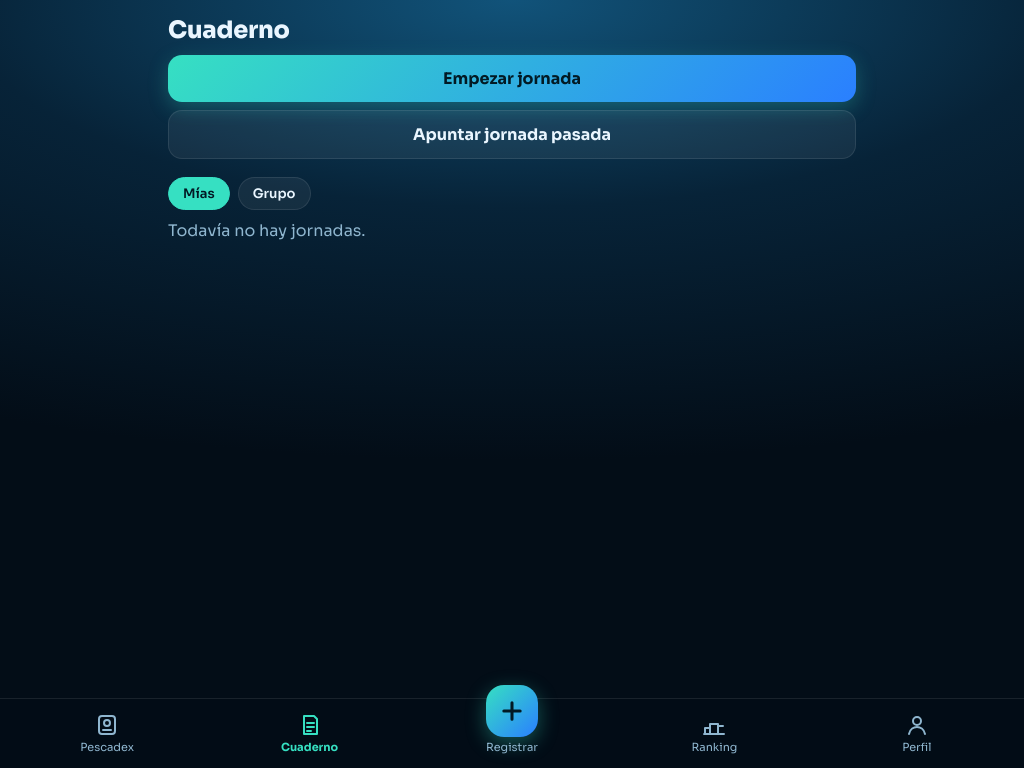
Test: empezar jornada de spinning con un compañero
Click the button "Empezar jornada" at (512, 78), box [168, 55, 856, 102]
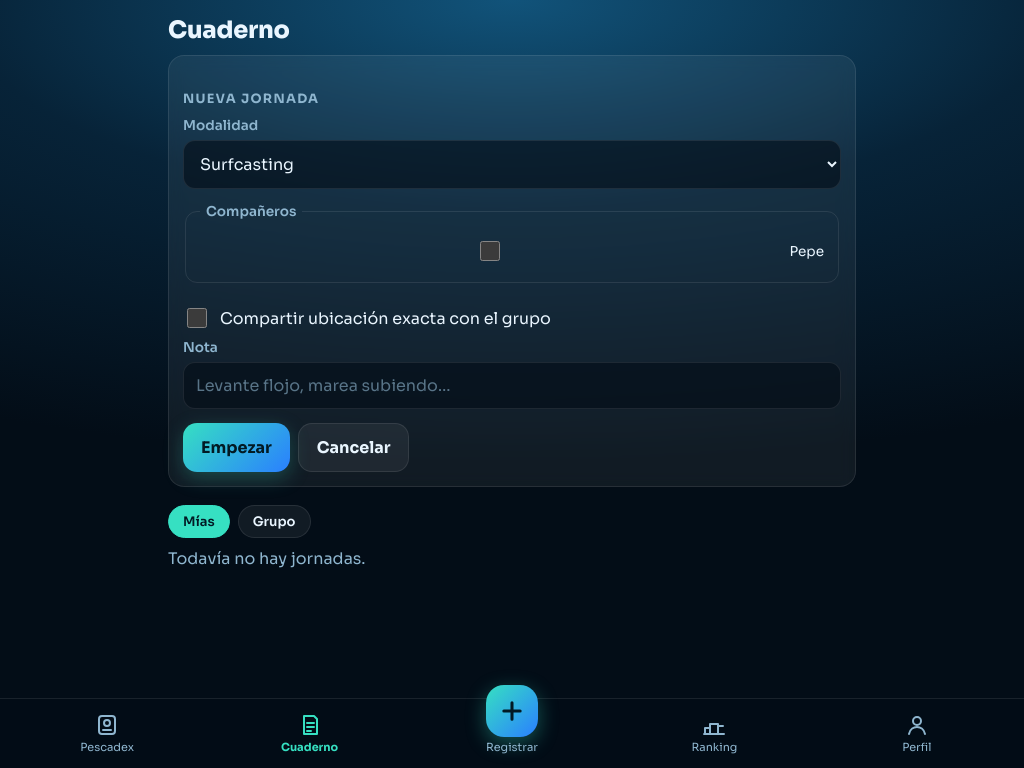
Select "Spinning" in the dropdown labelled "Modalidad" at (512, 165), box [183, 140, 841, 189]
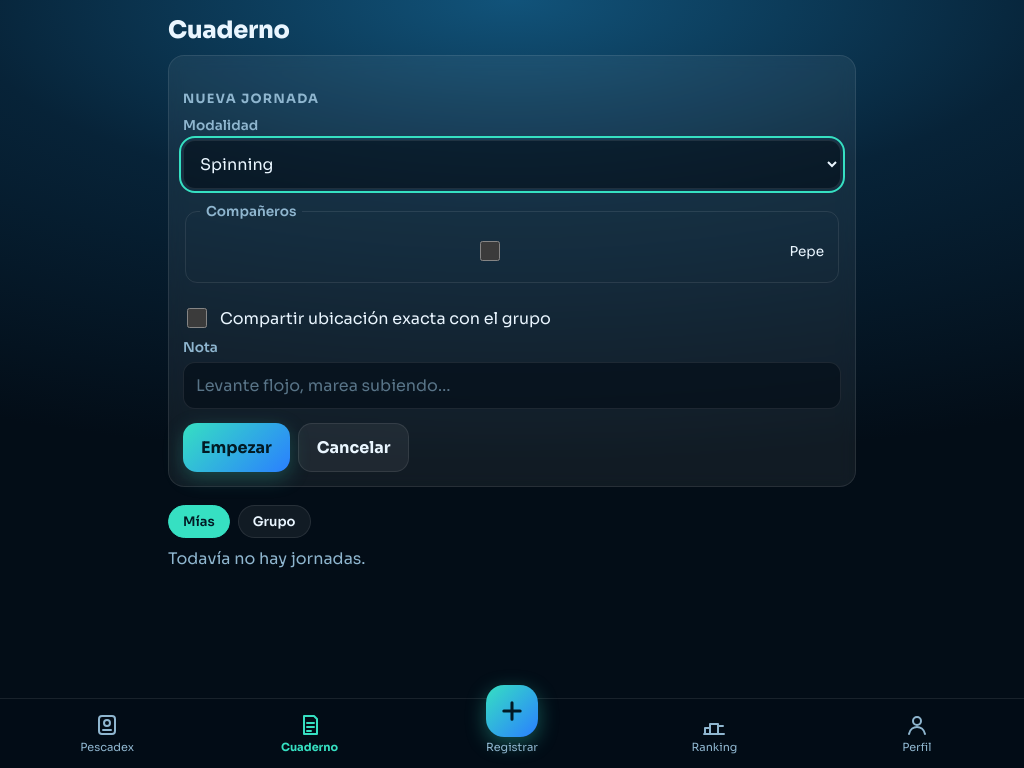
Click the checkbox labelled "Pepe" at (490, 251), box [204, 241, 776, 261]
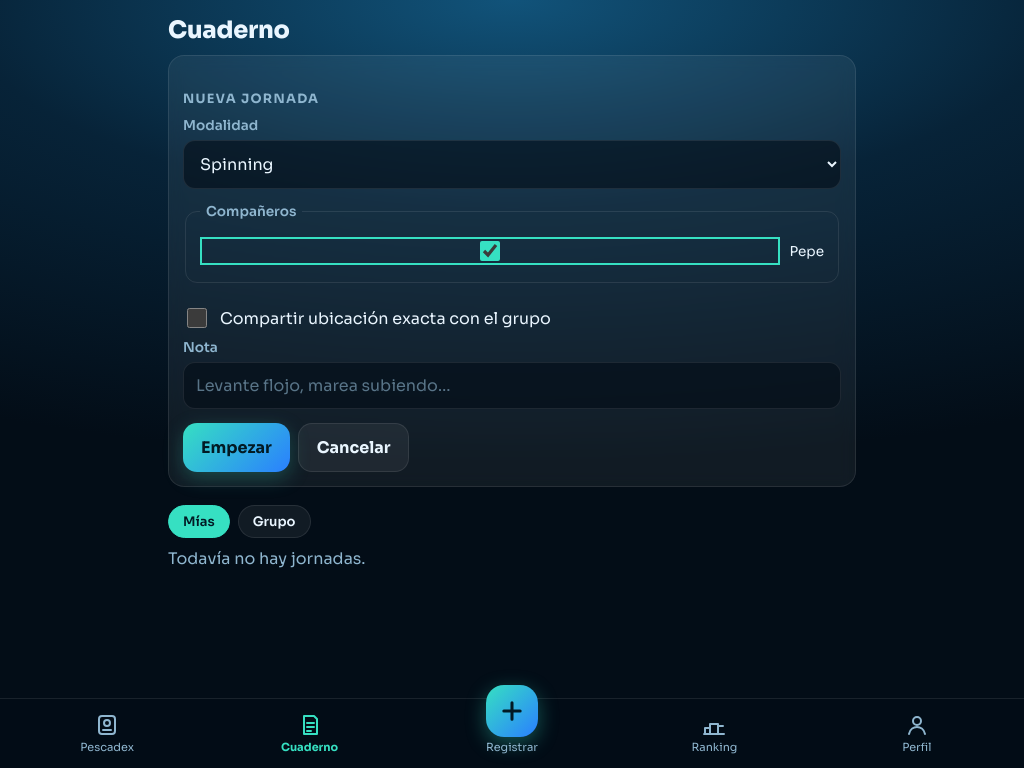
Click the button "Empezar" at (236, 448), box [183, 423, 290, 472]
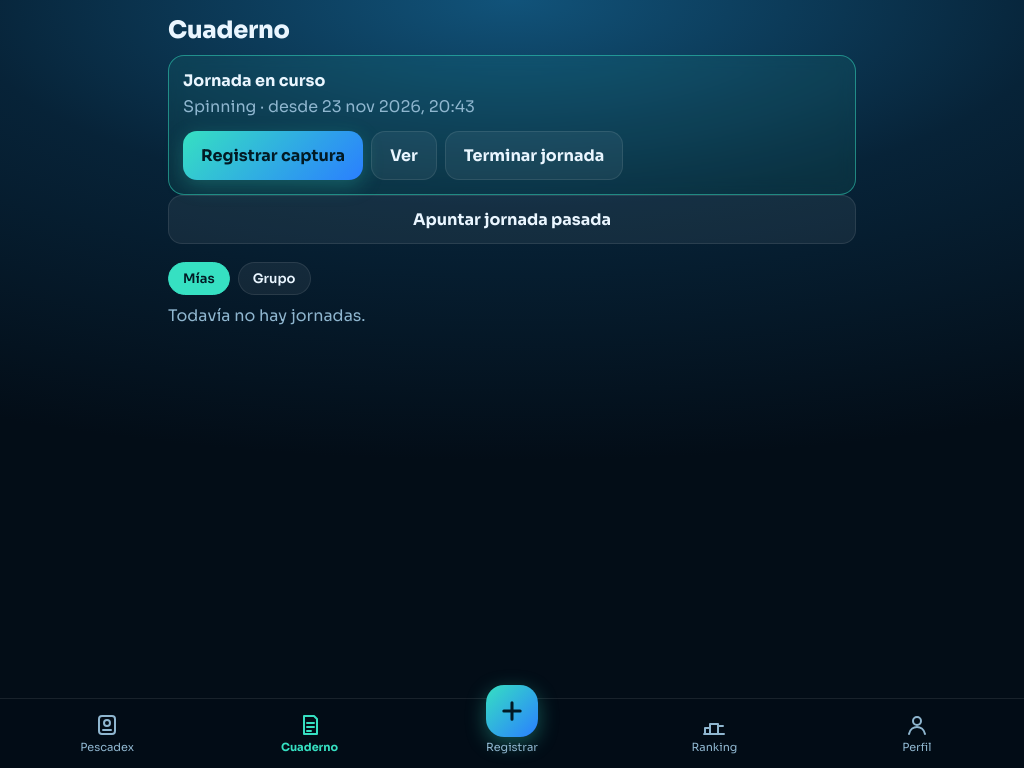
Now the text "Jornada en curso" is shown, box [183, 70, 325, 91]
